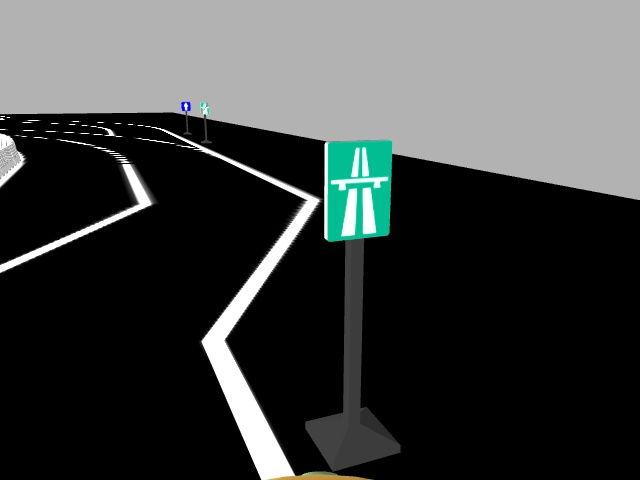HighwayEntrance: (320, 137, 391, 236)
